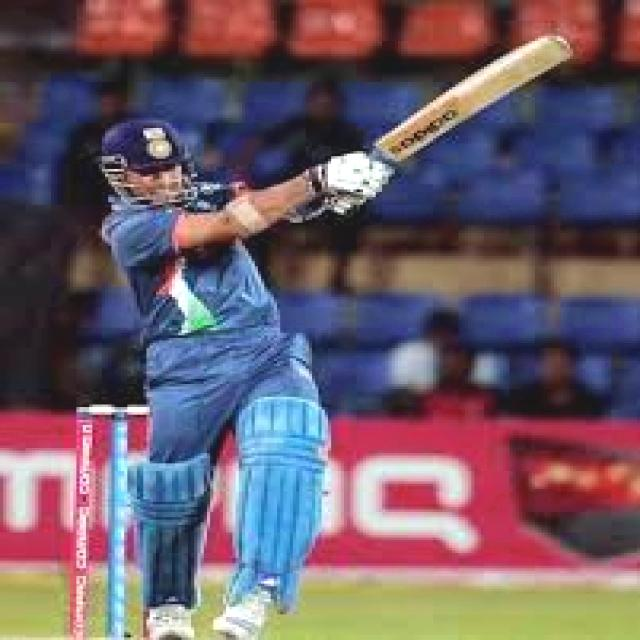toe: (519, 23, 585, 75)
